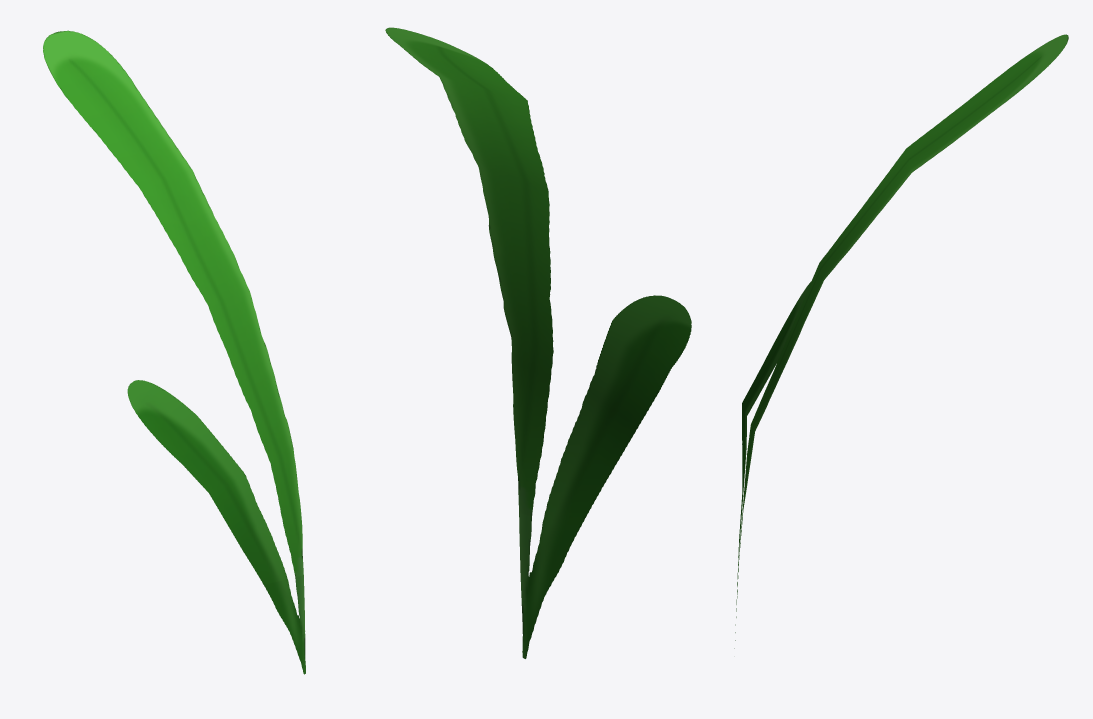
File: sm_env_grass_2.fbx
3 views of the same model, side by side, from view 1: azimuth 30°, elevation 25°; view 2: azimuth 150°, elevation 25°; view 3: azimuth 270°, elevation 25° (orthographic). The views are drawn at different scales.
Parts seen in each view (by area): view 1: grass_2; view 2: grass_2; view 3: grass_2.
Boxes of the visible parts, bbox=[...] form: grass_2: bbox=[43, 30, 305, 674]; grass_2: bbox=[385, 27, 691, 658]; grass_2: bbox=[734, 34, 1068, 648].
Size of the model in its own units: 10.39 by 31.25 by 15.88.
